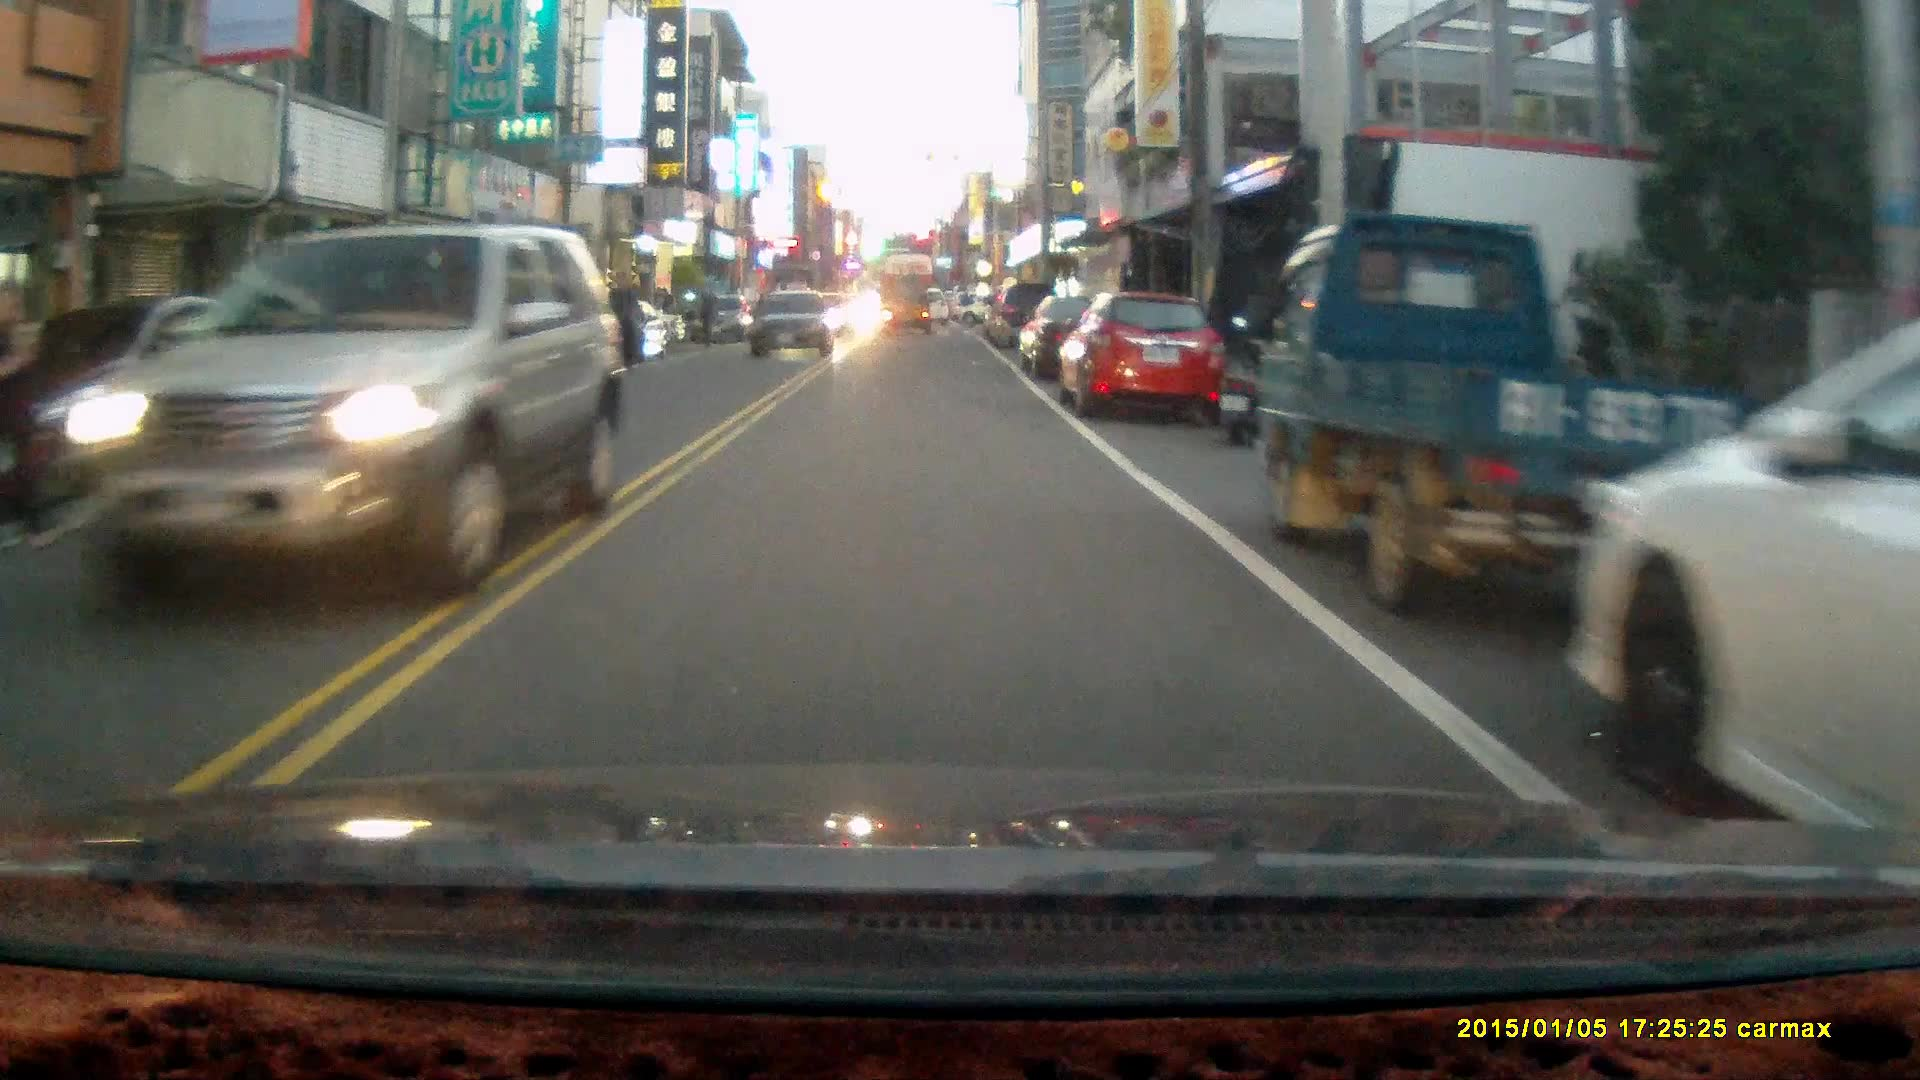pedestrian: (605, 269, 641, 368), (694, 282, 717, 346)
rider: (0, 273, 75, 546)
vehicle: (1249, 212, 1770, 618), (55, 225, 622, 598), (1563, 323, 1920, 881), (1061, 294, 1226, 423), (1012, 287, 1154, 387), (753, 287, 833, 361), (878, 280, 934, 338)
